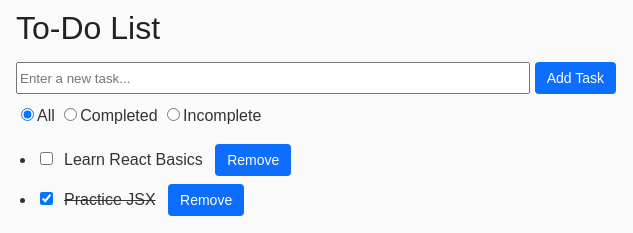
Test: TodoList Component › removes a task
Click the button "Remove" next to "Learn React Basics" at point(253, 160), box [215,144,291,176]
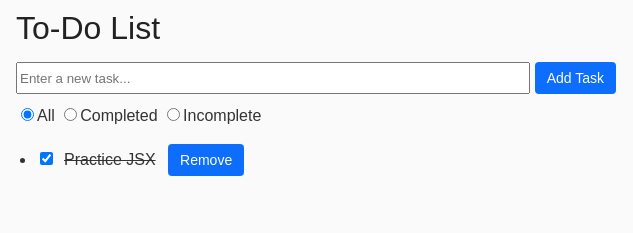
Expected: the text "Learn React Basics" is gone
